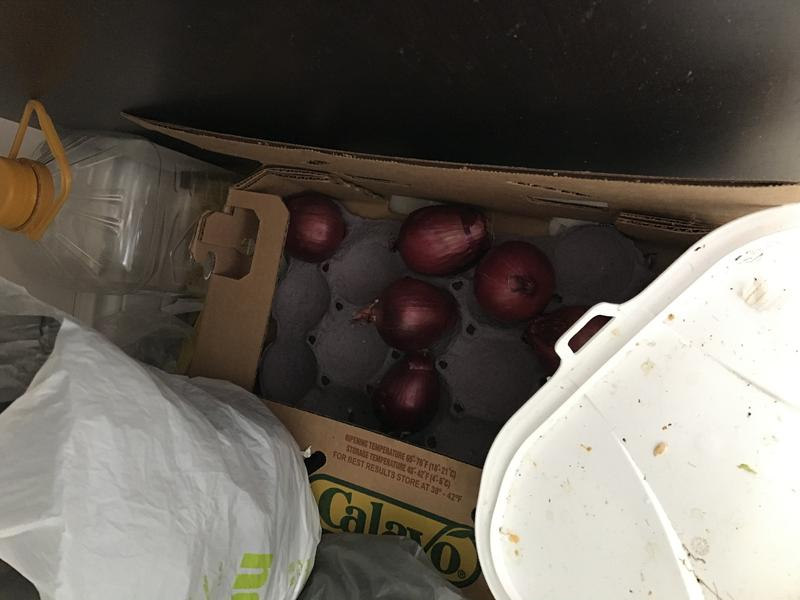purple_onion: (370, 277, 475, 352), (267, 188, 354, 270), (389, 205, 485, 278), (472, 242, 555, 323), (378, 355, 447, 437)
